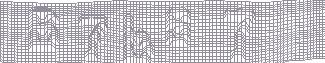7: (221, 8, 258, 63), (75, 12, 108, 62)
B: (27, 5, 60, 54)
b: (122, 12, 156, 63)
s: (163, 5, 193, 49)
